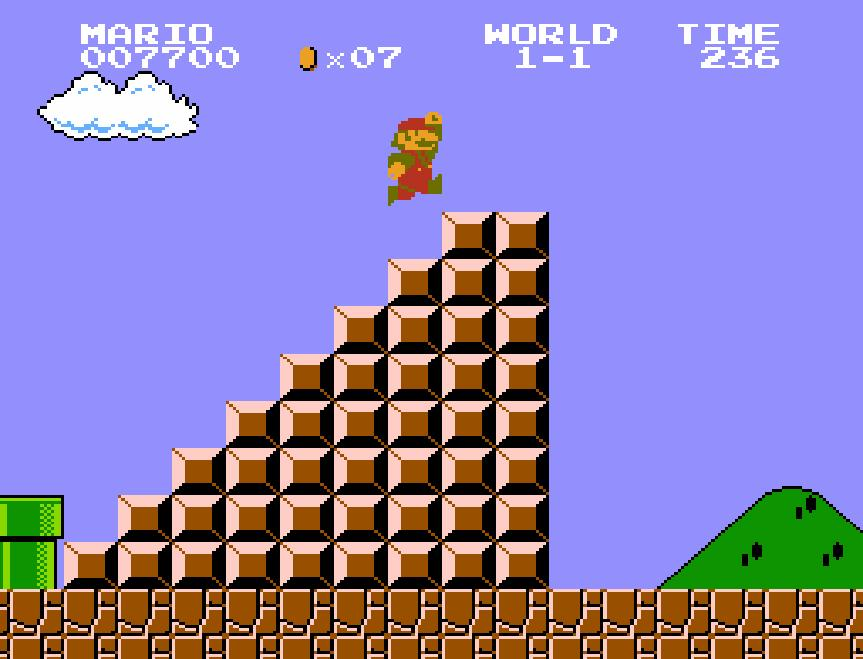big_mario: (386, 109, 444, 207)
